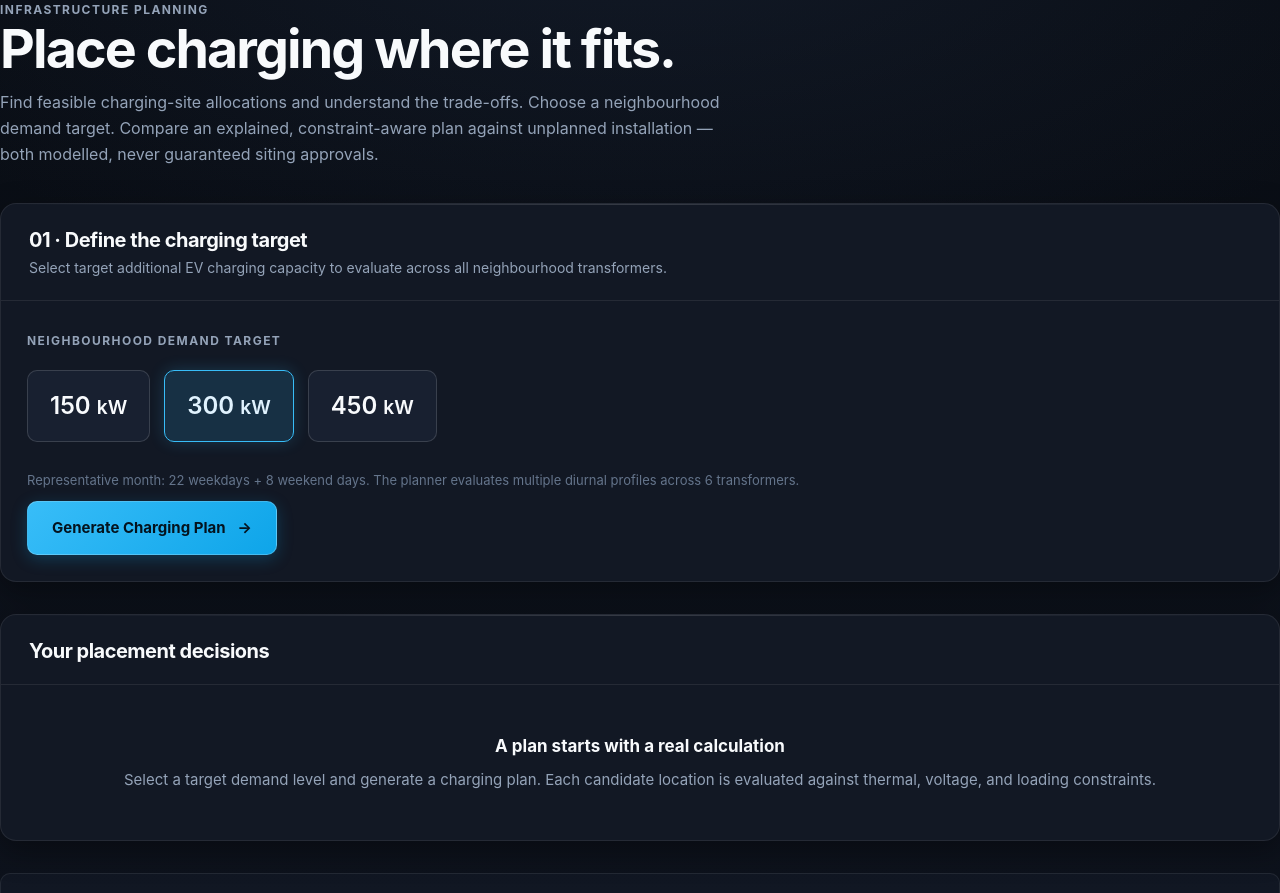
never invents allocations on API failure
Click the button with aria-label "Generate placement plan". click: point(152, 528)
box: [27,501,277,555]
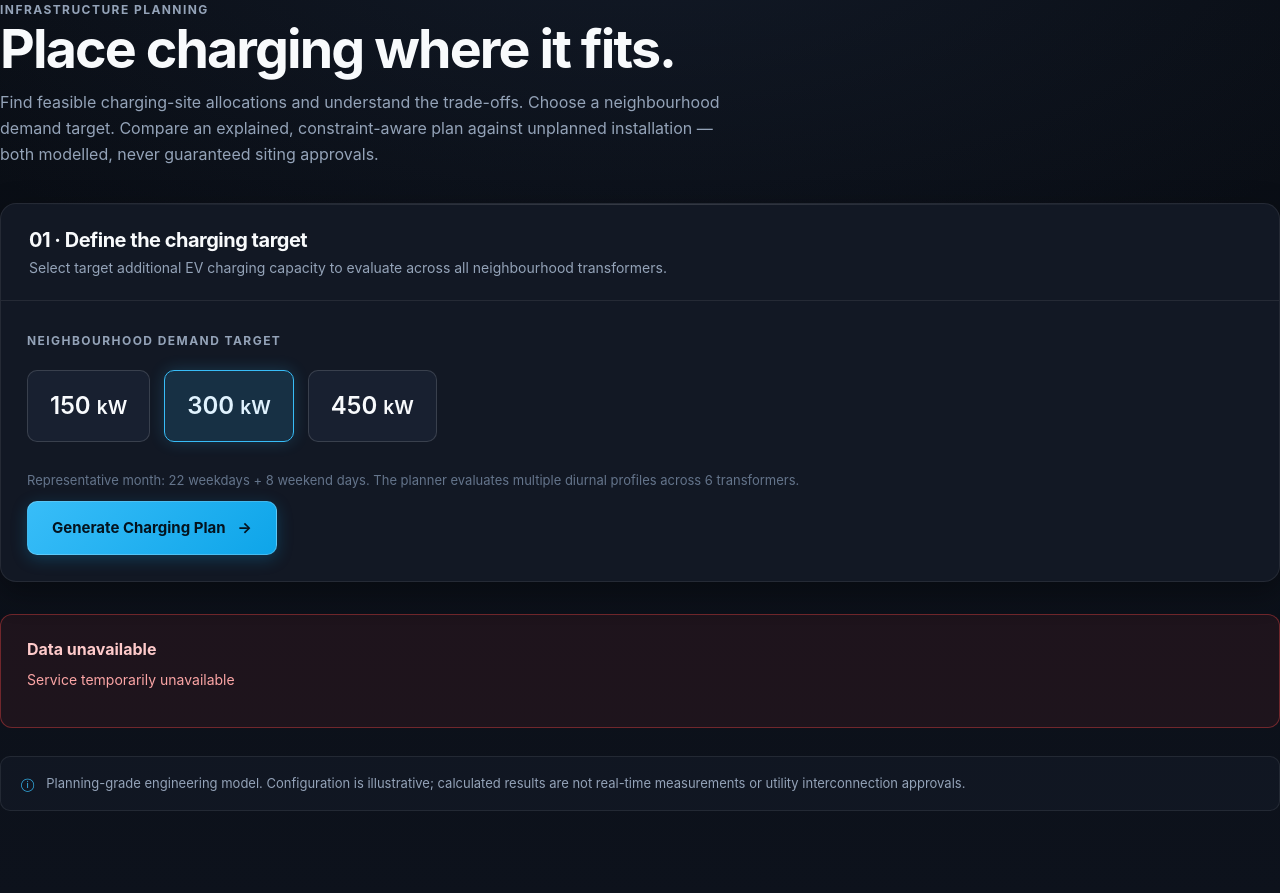
Result: the message "Data unavailable Service temporarily unavailable" is shown at [0,614,1279,728]
